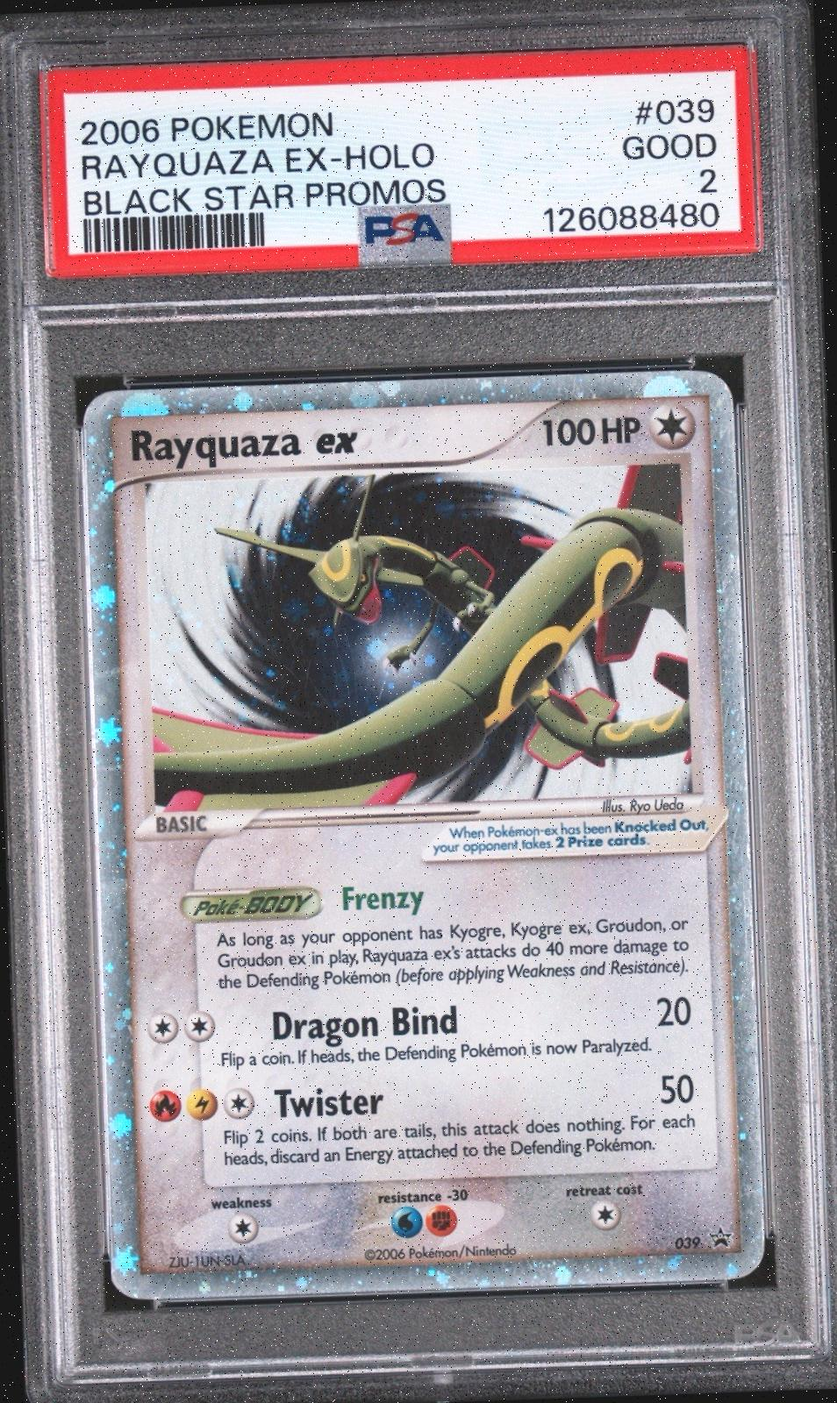card-2UtV: (82, 369, 765, 1300)
